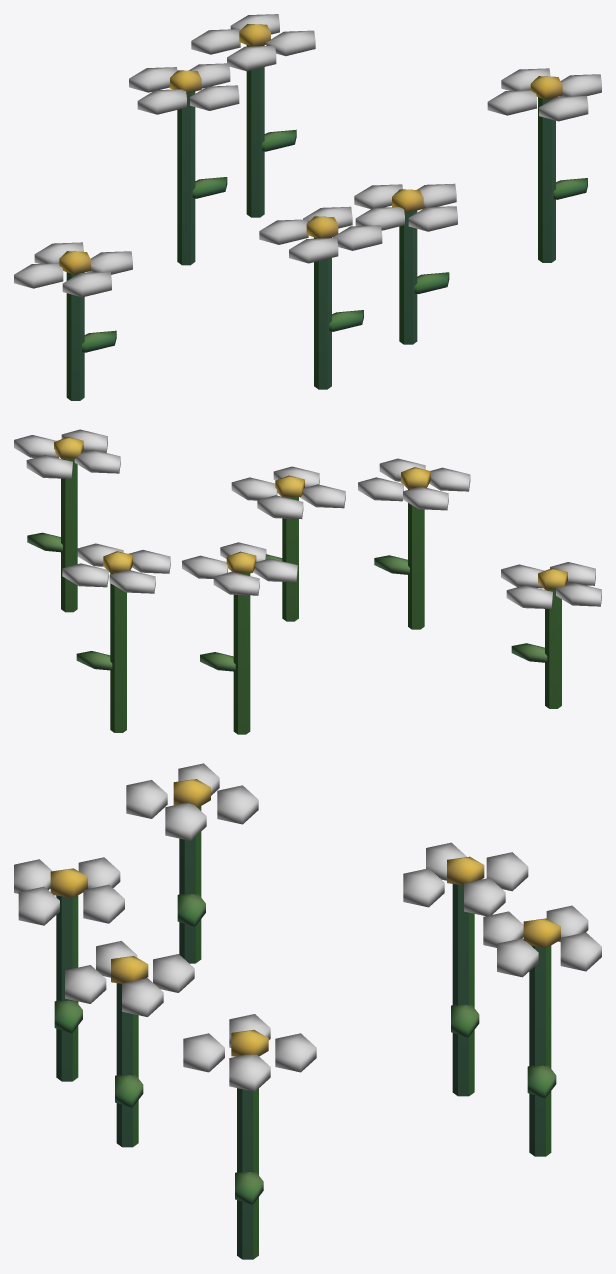
Rendered from FlowerClump.fbx.
3 views of the same model, one above another, from view 1: azimuth 30°, elevation 25°; view 2: azimuth 150°, elevation 25°; view 3: azimuth 270°, elevation 25° (orthographic). The views are drawn at different scales.
Parts seen in each view (by area): view 1: SM_Veg_Flowers, SM_Veg_Flowers_Petals; view 2: SM_Veg_Flowers_Petals, SM_Veg_Flowers; view 3: SM_Veg_Flowers, SM_Veg_Flowers_Petals.
Part boxes in pixels (left/top/right/bottom): SM_Veg_Flowers: left=59, top=24, right=587, bottom=400; SM_Veg_Flowers_Petals: left=14, top=14, right=601, bottom=297; SM_Veg_Flowers_Petals: left=14, top=429, right=601, bottom=608; SM_Veg_Flowers: left=27, top=437, right=567, bottom=734; SM_Veg_Flowers: left=50, top=779, right=560, bottom=1259; SM_Veg_Flowers_Petals: left=14, top=763, right=601, bottom=1091.
Size of the model in its own units: 4.68 by 1.41 by 3.2.
